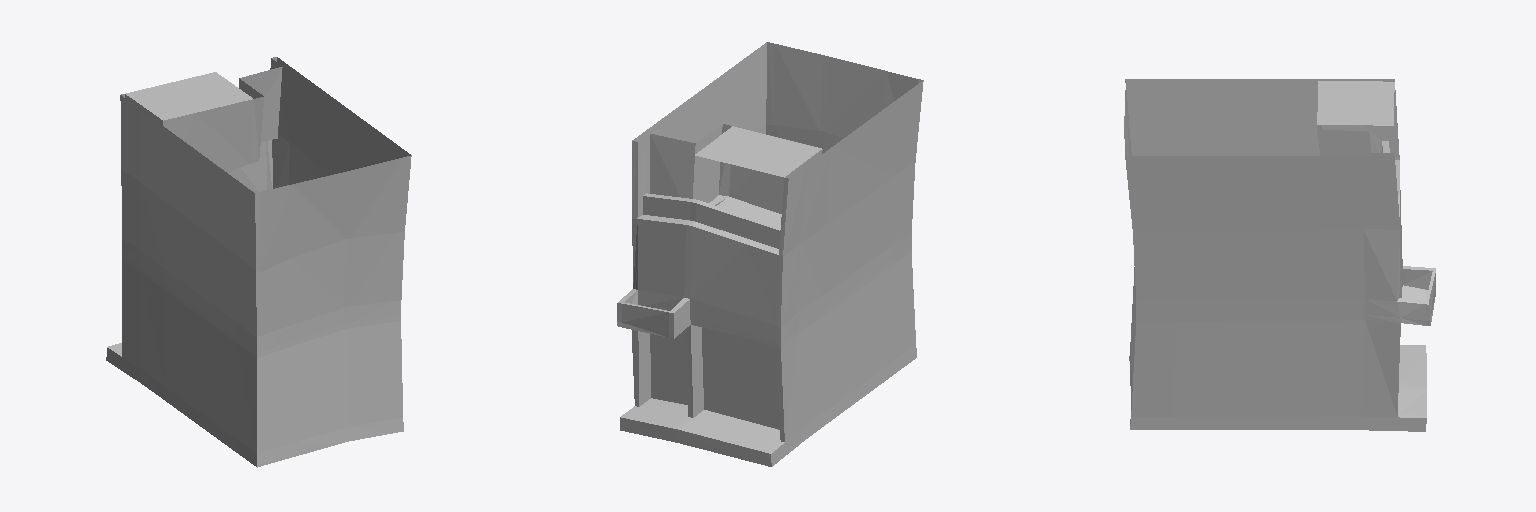
Rendered from immeuble 1.obj.
3 views of the same model, side by side, from view 1: azimuth 30°, elevation 25°; view 2: azimuth 150°, elevation 25°; view 3: azimuth 270°, elevation 25° (orthographic).
Visible parts, largest first — view 1: immeuble_4; view 2: immeuble_4; view 3: immeuble_4.
Boxes of the visible parts, box(x1,y1,x2,y2) form: immeuble_4: box(106, 57, 411, 467); immeuble_4: box(617, 42, 923, 466); immeuble_4: box(1124, 79, 1435, 431).
Bounding box in the file's own units: 28.8 × 48.99 × 49.67.